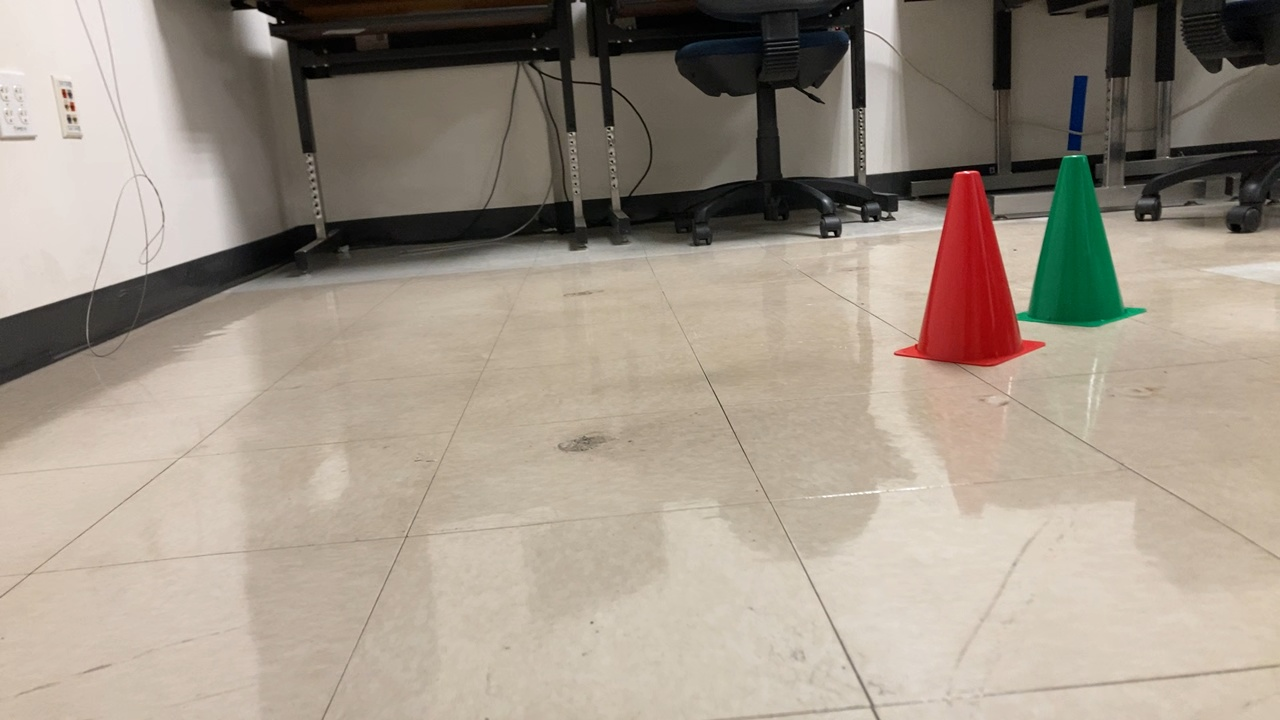green_cone: (1011, 150, 1148, 333)
red_cone: (887, 165, 1050, 377)
